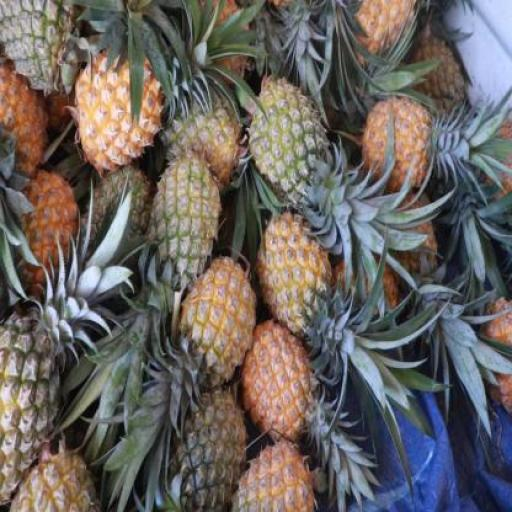------------------------------: (0, 312, 65, 504), (252, 80, 329, 208), (184, 258, 258, 389), (152, 154, 222, 288), (246, 324, 318, 450), (167, 96, 244, 183), (235, 434, 321, 511)
Pineapple - v8 v1: (78, 48, 164, 172), (260, 214, 334, 330), (363, 101, 435, 203), (0, 56, 49, 182)
